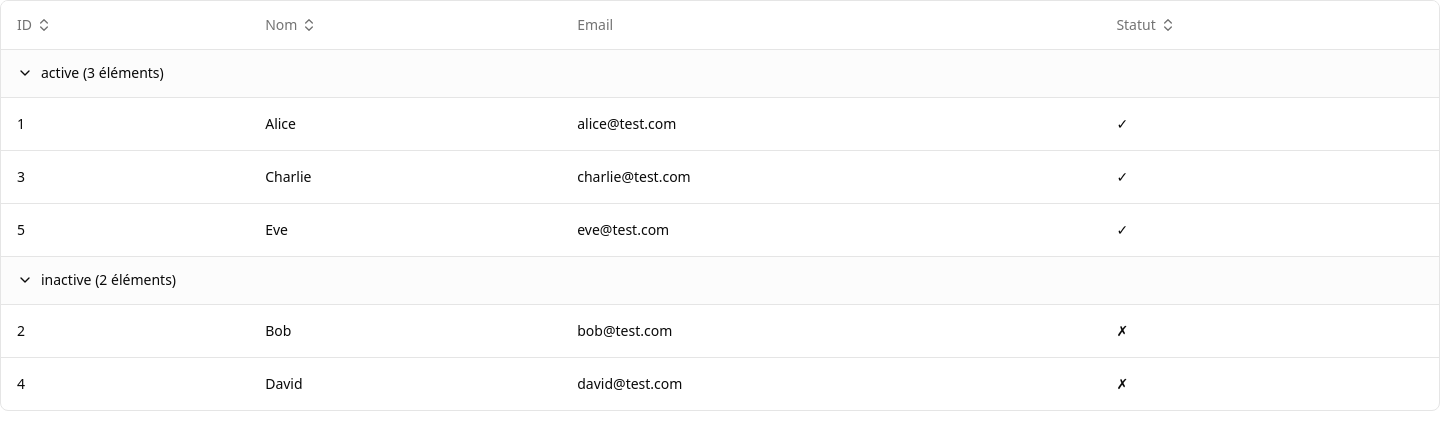
Test: DataTable - Grouping Functionality › allows collapsing and expanding groups
// Cliquer sur l'en-tête du groupe active pour le replier
Click the text "active (3 éléments)": (102, 73) x1=41 y1=63 x2=164 y2=83
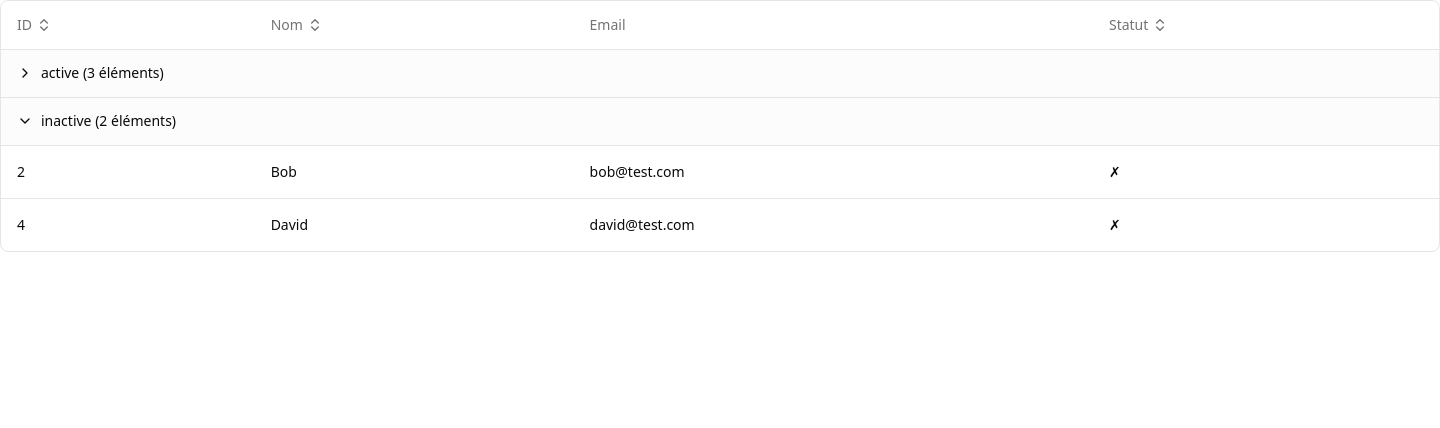
Expected: the text "Bob" is shown, x1=255 y1=145 x2=574 y2=198
Now the text "Alice" is gone
// Cliquer à nouveau pour déplier
Click the text "active (3 éléments)": (102, 73) x1=41 y1=63 x2=164 y2=83
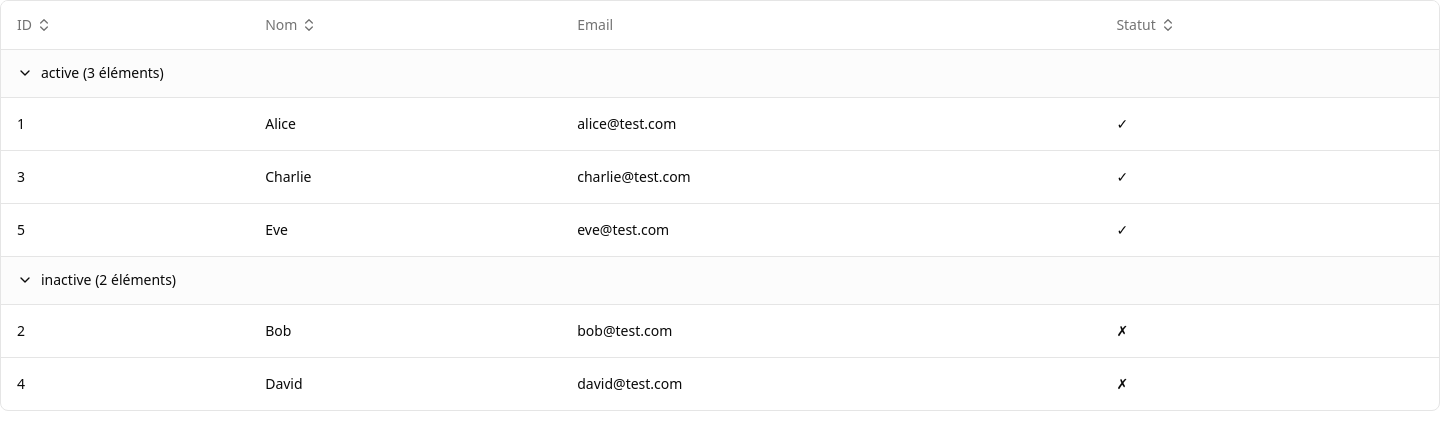
Now the text "Alice" is shown, box x1=249 y1=97 x2=561 y2=150
